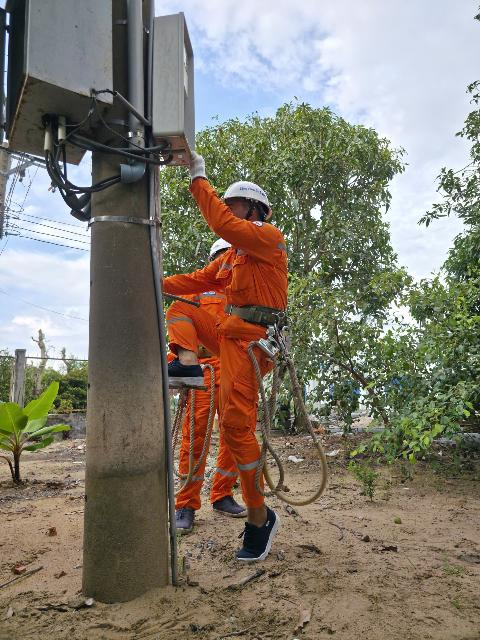harness: (222, 296, 307, 341)
helmet: (218, 176, 284, 222), (202, 234, 237, 260)
shoes: (223, 499, 294, 579), (147, 346, 209, 396), (166, 493, 196, 541), (210, 487, 248, 522)
